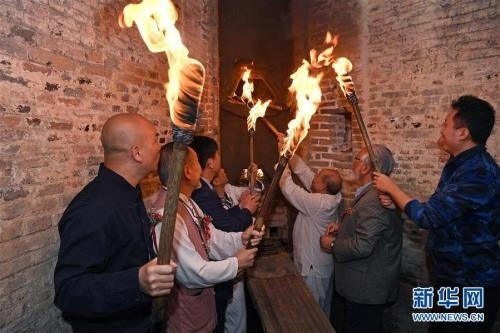fire: (118, 0, 199, 117), (286, 40, 323, 150), (300, 28, 352, 90), (238, 63, 270, 129), (237, 65, 256, 101)
